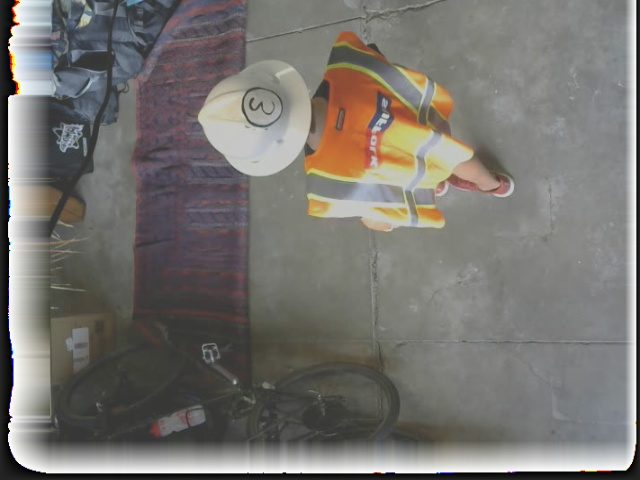three: (240, 87, 281, 128)
